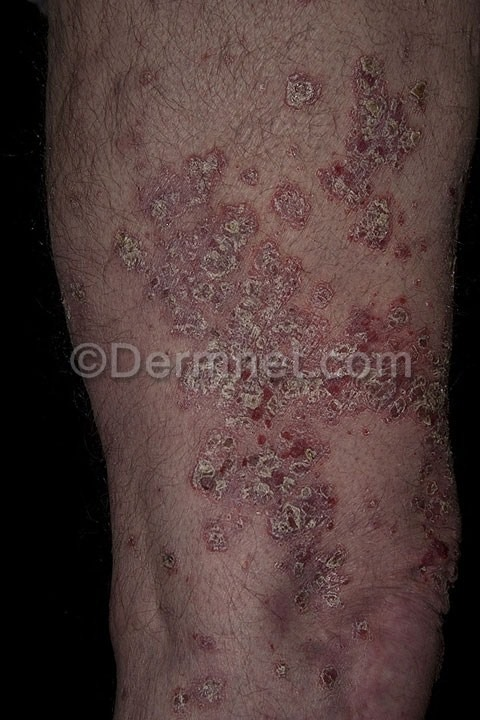Psoriasis: (107, 152, 351, 627), (330, 295, 452, 454), (333, 56, 425, 250), (267, 648, 349, 694), (159, 661, 230, 711), (279, 59, 328, 120)
